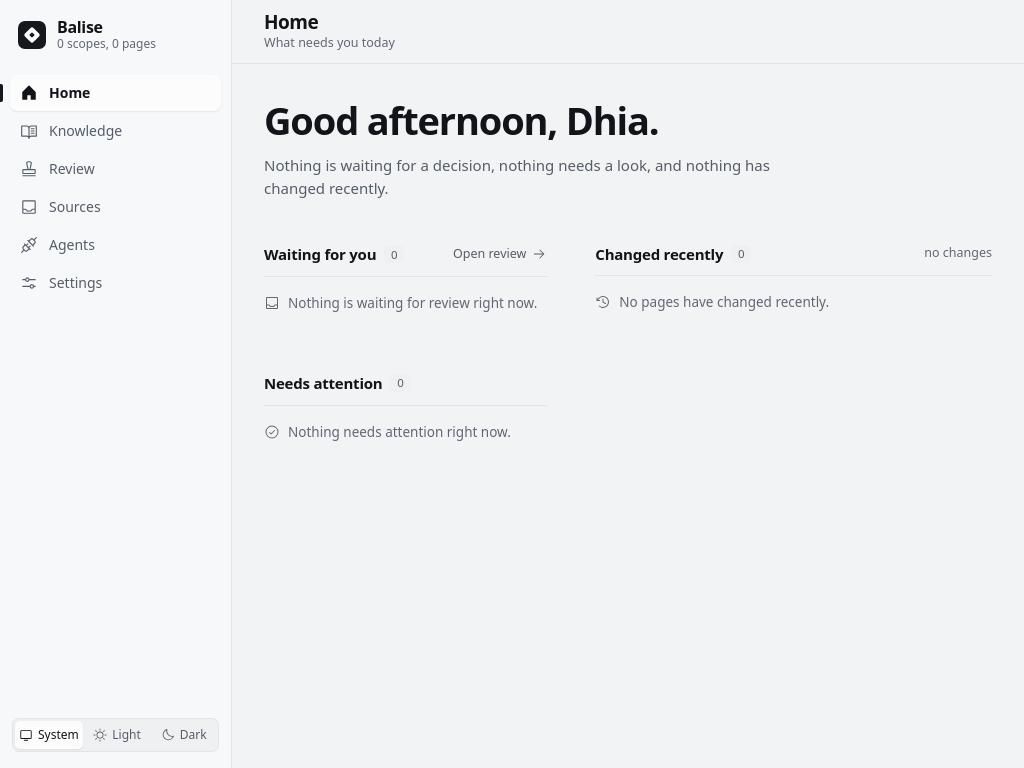
Test: AppShell › renders the Review queue when Review is selected
The image size is (1024, 768).
What coordinates should you click on to do the following:
click the button "Review"
I would click on:
 (116, 169)
Its box is [10, 151, 221, 187].
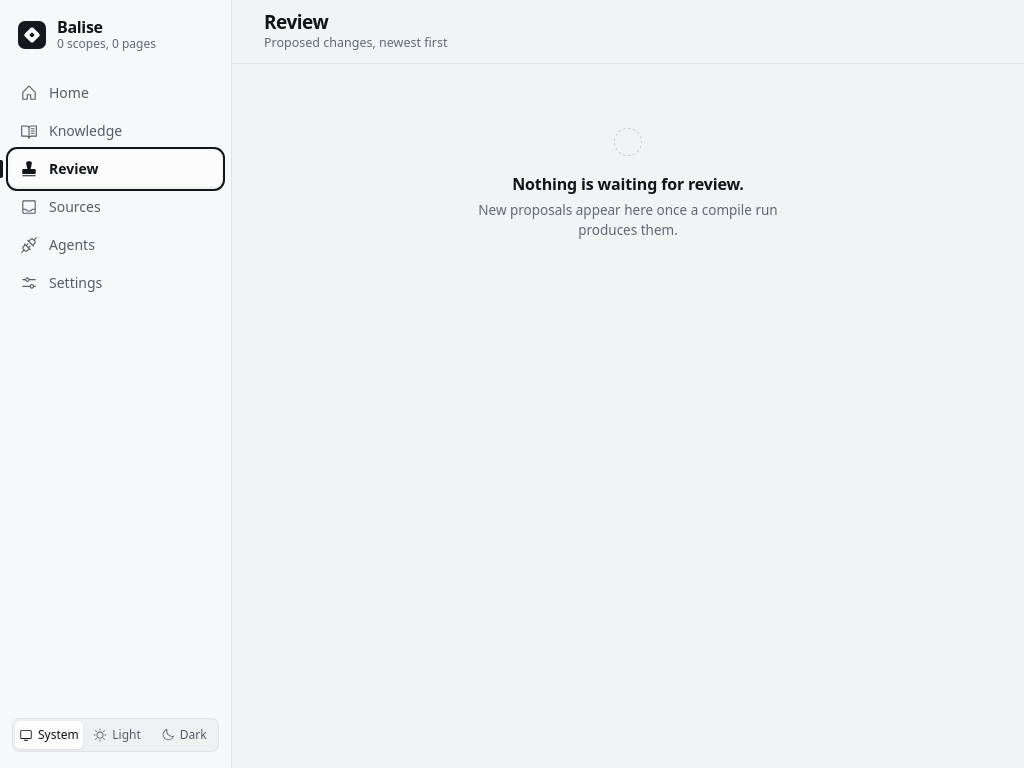
Expected: the text "Nothing is waiting for review." is shown, [512, 173, 744, 195]
